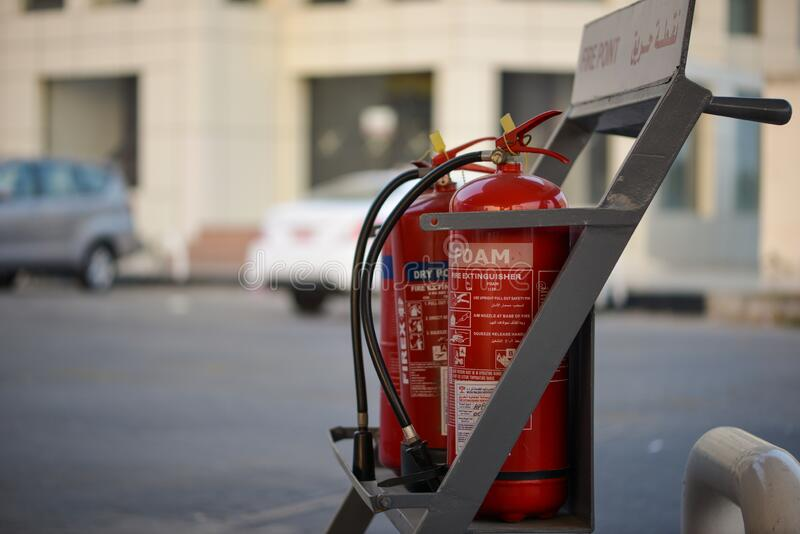fire_extinguisher: (373, 109, 577, 523), (441, 109, 573, 523)
